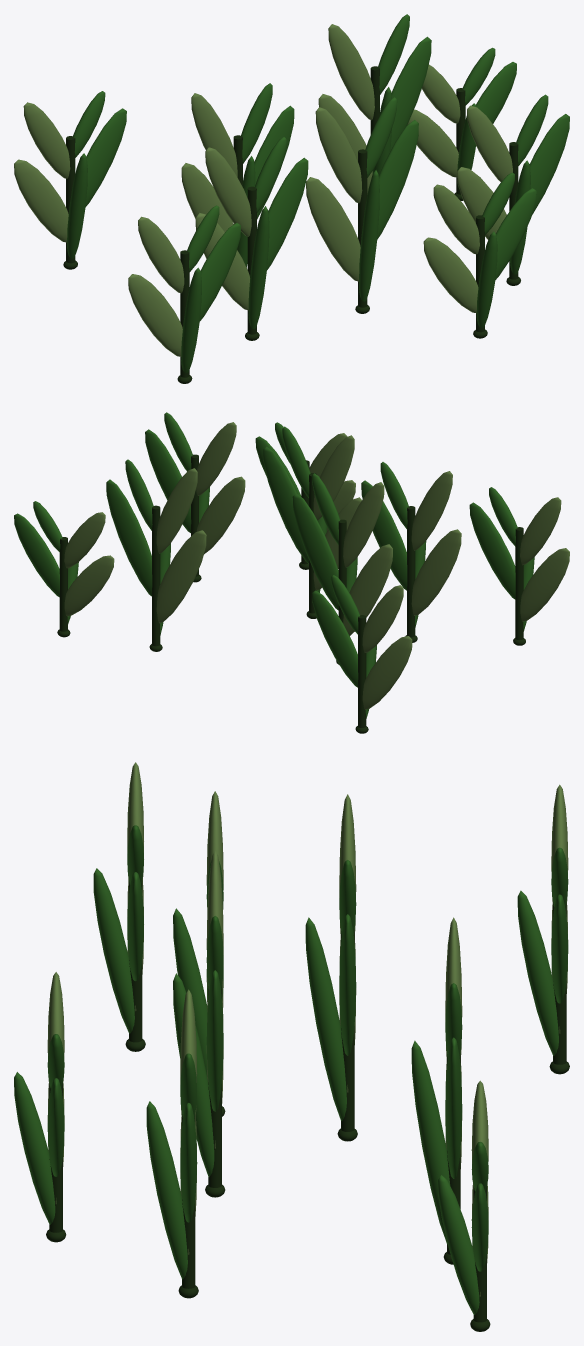
Rendered from CMU3DRMCGrasse1.glb.
3 renders of one model, top to bottom at view 1: azimuth 30°, elevation 25°; view 2: azimuth 150°, elevation 25°; view 3: azimuth 270°, elevation 25°, orthographic. The views are drawn at different scales.
Parts seen in each view (by area): view 1: blade clump 3 fork leaf 0, blade clump 2 fork leaf 0, blade clump 0 fork leaf 0, blade clump 3 fork leaf 1, blade clump 3 fork leaf 2, blade clump 4 fork leaf 2, blade clump 7 fork leaf 0, blade clump 8 fork leaf 1, blade clump 4 fork leaf 1, blade clump 8 fork leaf 2, blade clump 0 fork leaf 1, blade clump 2 fork leaf 1 (+39 smaller); view 2: blade clump 4 fork leaf 1, blade clump 4 fork leaf 0, blade clump 1 fork leaf 1, blade clump 8 fork leaf 0, blade clump 2 fork leaf 1, blade clump 0 fork leaf 1, blade clump 0 fork leaf 0, blade clump 2 fork leaf 0, blade clump 1 fork leaf 0, blade clump 3 fork leaf 1, blade clump 6 fork leaf 0, blade clump 1 fork leaf 2 (+31 smaller); view 3: blade clump 1 forward leaf, blade clump 6 forward leaf, blade clump 4 forward leaf, blade clump 2 forward leaf, blade clump 0 forward leaf, blade clump 7 forward leaf, blade clump 5 forward leaf, blade clump 3 forward leaf, blade clump 8 forward leaf, blade clump 1 fork leaf 1, blade clump 4 fork leaf 1, blade clump 3 fork leaf 1 (+26 smaller).
Part boxes in pixels (<box>): blade clump 3 fork leaf 0: <box>306,177,360,281</box>; blade clump 2 fork leaf 0: <box>128,274,182,356</box>; blade clump 0 fork leaf 0: <box>14,159,68,242</box>; blade clump 3 fork leaf 1: <box>377,120,418,239</box>; blade clump 3 fork leaf 2: <box>315,107,362,203</box>; blade clump 4 fork leaf 2: <box>328,24,374,120</box>; blade clump 7 fork leaf 0: <box>423,237,478,313</box>; blade clump 8 fork leaf 1: <box>267,157,308,269</box>; blade clump 4 fork leaf 1: <box>390,36,431,151</box>; blade clump 8 fork leaf 2: <box>205,147,251,236</box>; blade clump 0 fork leaf 1: <box>85,108,126,206</box>; blade clump 2 fork leaf 1: <box>199,223,240,321</box>; blade clump 4 fork leaf 1: <box>106,479,152,596</box>; blade clump 4 fork leaf 0: <box>156,530,206,623</box>; blade clump 1 fork leaf 1: <box>292,493,338,610</box>; blade clump 8 fork leaf 0: <box>411,529,461,615</box>; blade clump 2 fork leaf 1: <box>469,502,515,599</box>; blade clump 0 fork leaf 1: <box>312,590,358,687</box>; blade clump 0 fork leaf 0: <box>362,636,412,709</box>; blade clump 2 fork leaf 0: <box>520,548,569,621</box>; blade clump 1 fork leaf 0: <box>343,544,392,635</box>; blade clump 3 fork leaf 1: <box>263,446,308,563</box>; blade clump 6 fork leaf 0: <box>196,476,245,554</box>; blade clump 1 fork leaf 2: <box>343,482,384,567</box>; blade clump 1 forward leaf: <box>305,917,346,1120</box>; blade clump 6 forward leaf: <box>146,1101,187,1279</box>; blade clump 4 forward leaf: <box>411,1040,450,1244</box>; blade clump 2 forward leaf: <box>93,868,134,1033</box>; blade clump 0 forward leaf: <box>517,890,558,1055</box>; blade clump 7 forward leaf: <box>14,1072,55,1224</box>; blade clump 5 forward leaf: <box>438,1175,479,1314</box>; blade clump 3 forward leaf: <box>173,973,214,1176</box>; blade clump 8 forward leaf: <box>173,908,207,1076</box>; blade clump 1 fork leaf 1: <box>339,914,356,1055</box>; blade clump 4 fork leaf 1: <box>445,1037,462,1178</box>; blade clump 3 fork leaf 1: <box>206,970,223,1111</box>.
Bounding box in the file's own units: 1 × 0.41 × 0.6555.
